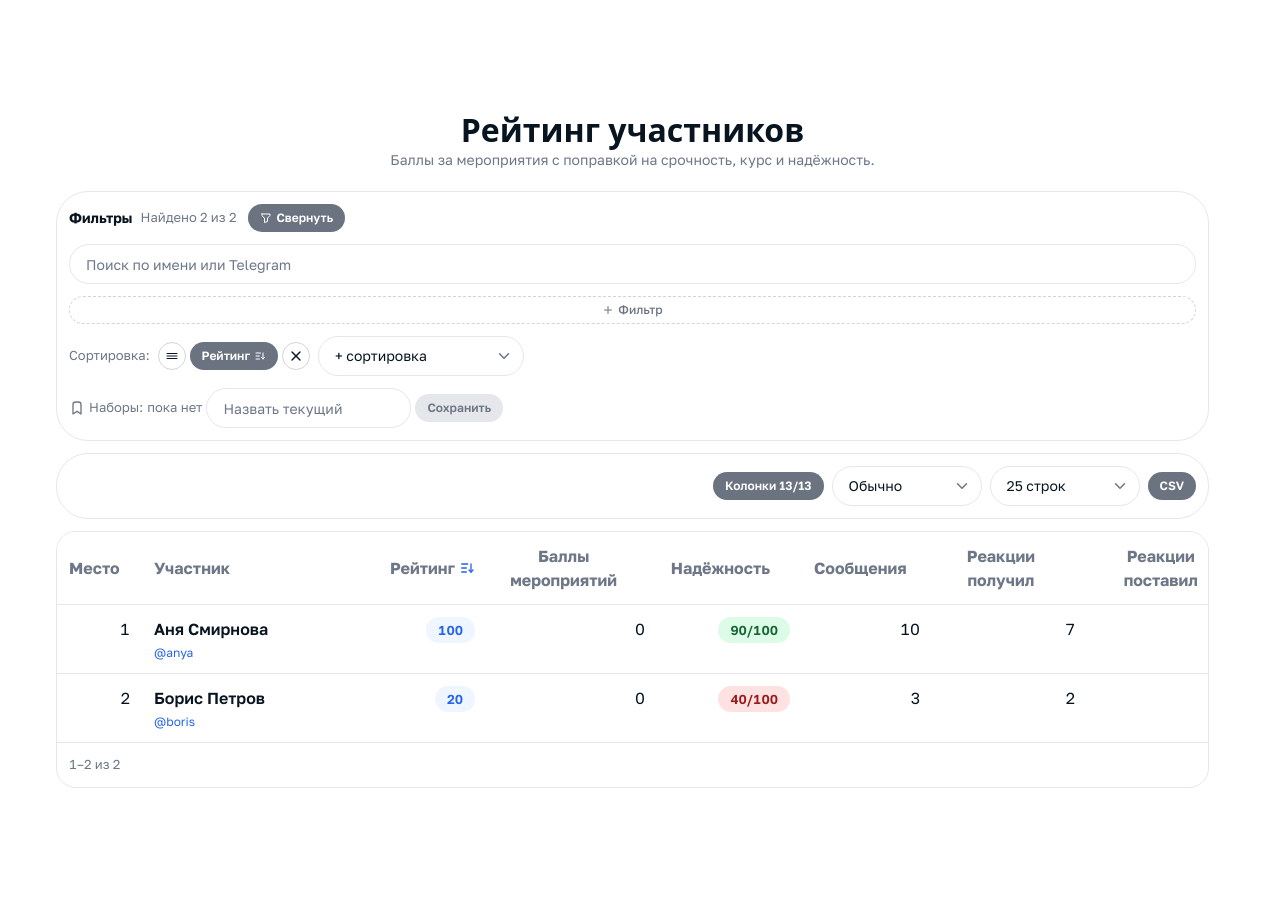
Test: страница рейтинга › отбирает диапазоном и убирается вместе со своим контролом
This screenshot has width=1280, height=900.
Click the button "Фильтр": (632, 310) [69,296,1196,324]
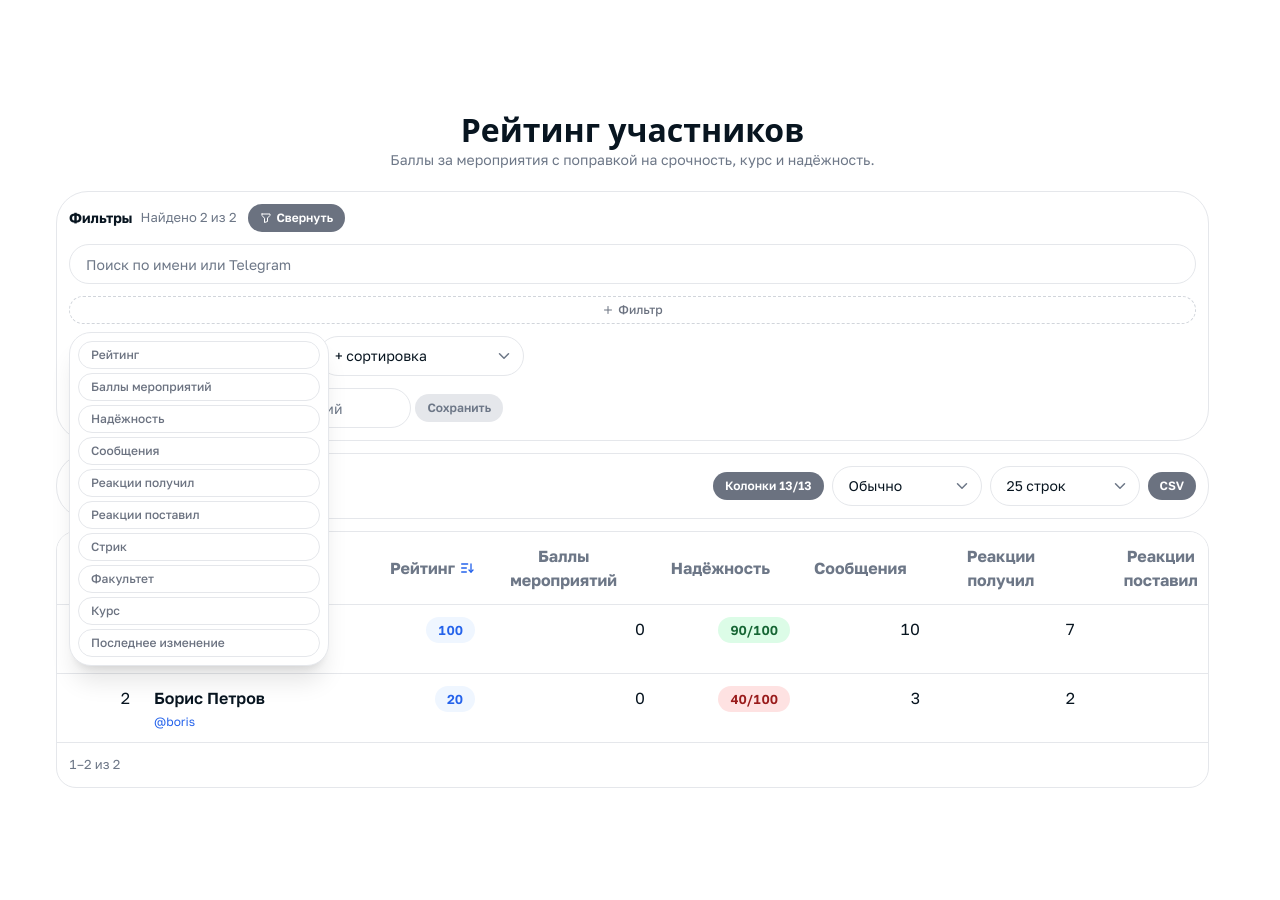
Click the menu item "Рейтинг": (199, 355) [78,341,320,369]
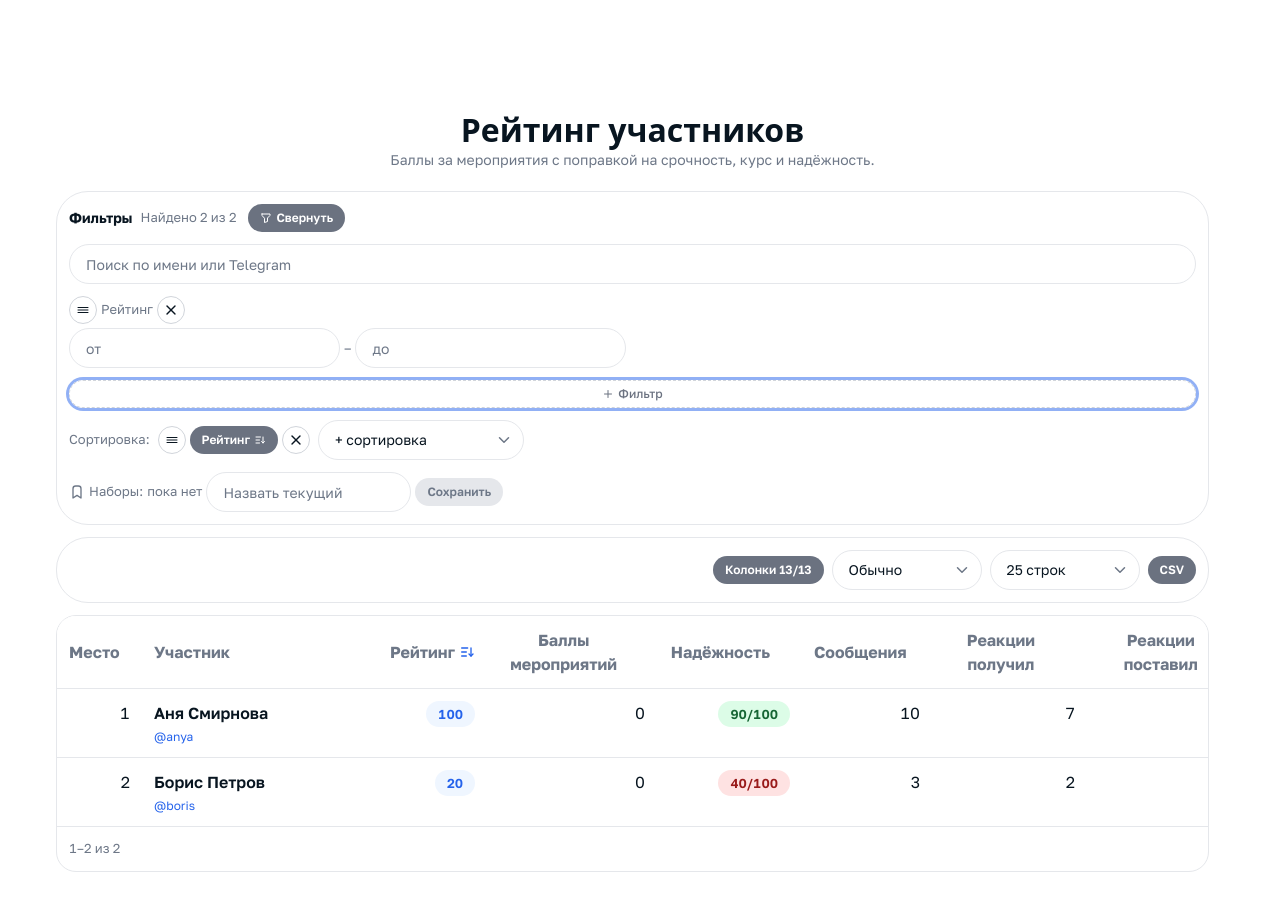
In the number field named "Рейтинг: от": (204, 348) [69,328,340,368], type "50"
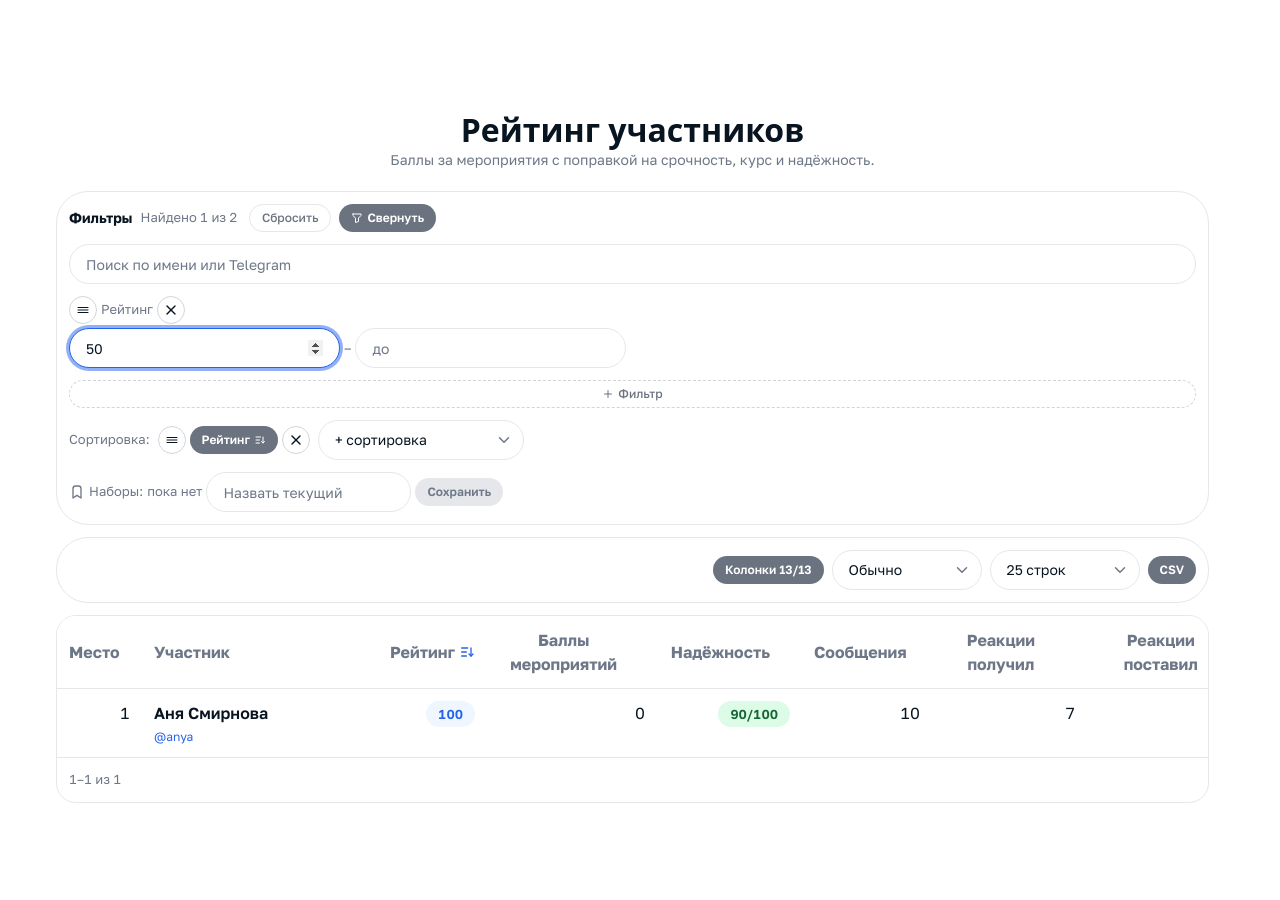
Check: the text "Найдено 1 из 2" is shown, box [140,208,237,228]
Check: the link "Борис Петров" is gone
Click the button named "Убрать фильтр «Рейтинг»": (171, 310) [157,296,185,324]
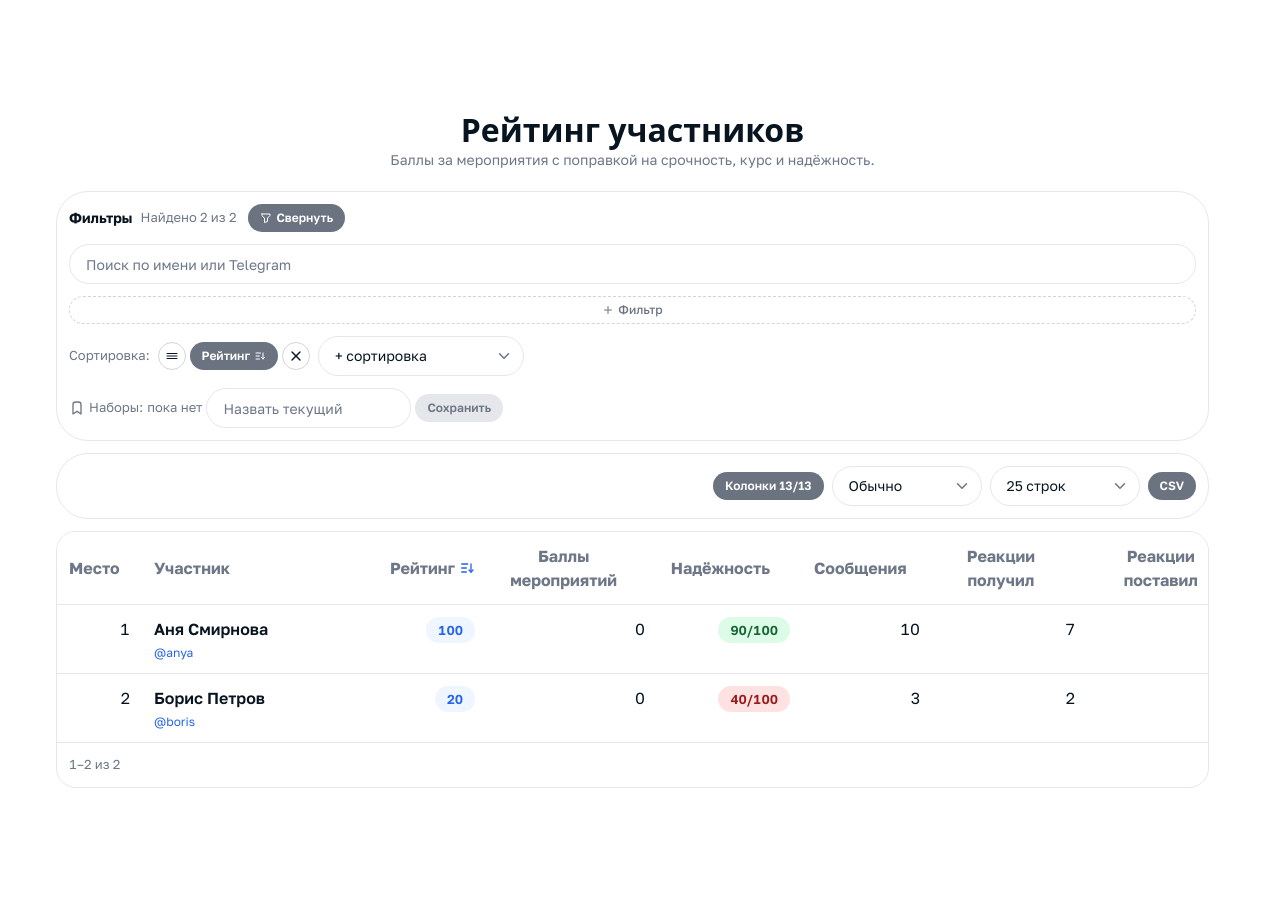
Check: the text "Найдено 2 из 2" is shown, box [140,208,236,228]
Check: the number field labelled "Рейтинг: от" is gone
